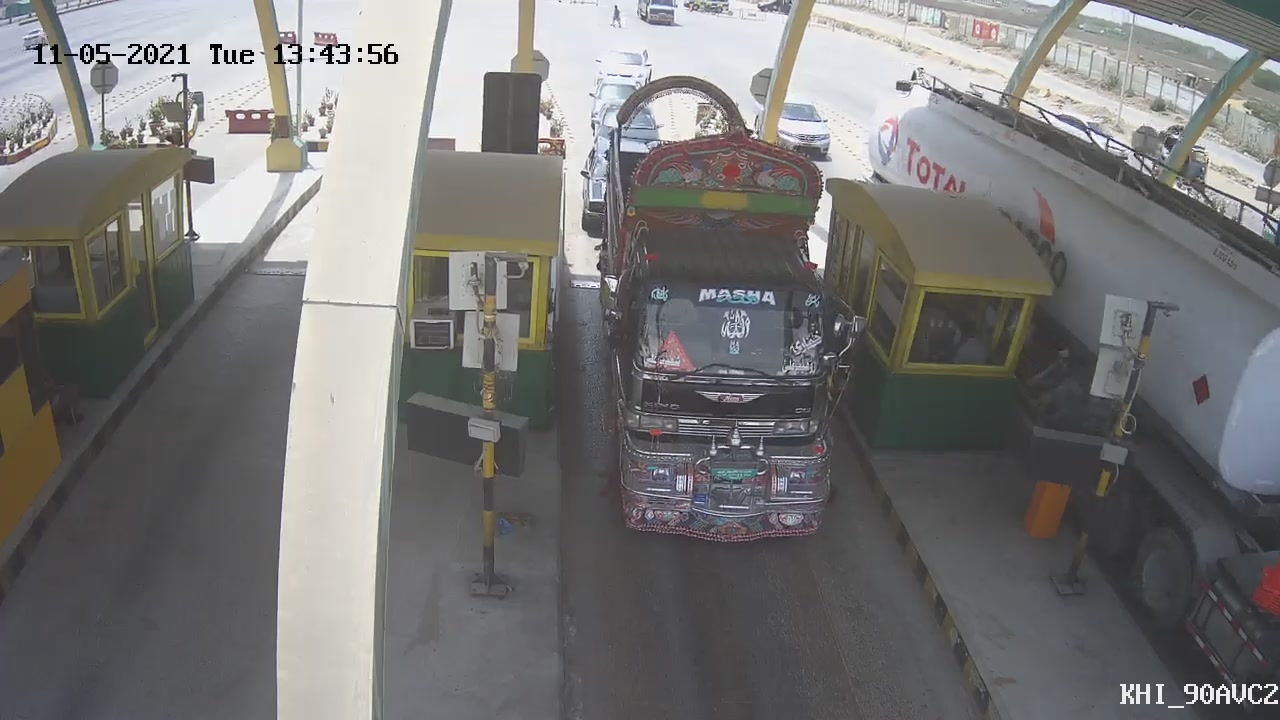F5: (592, 71, 857, 568)
